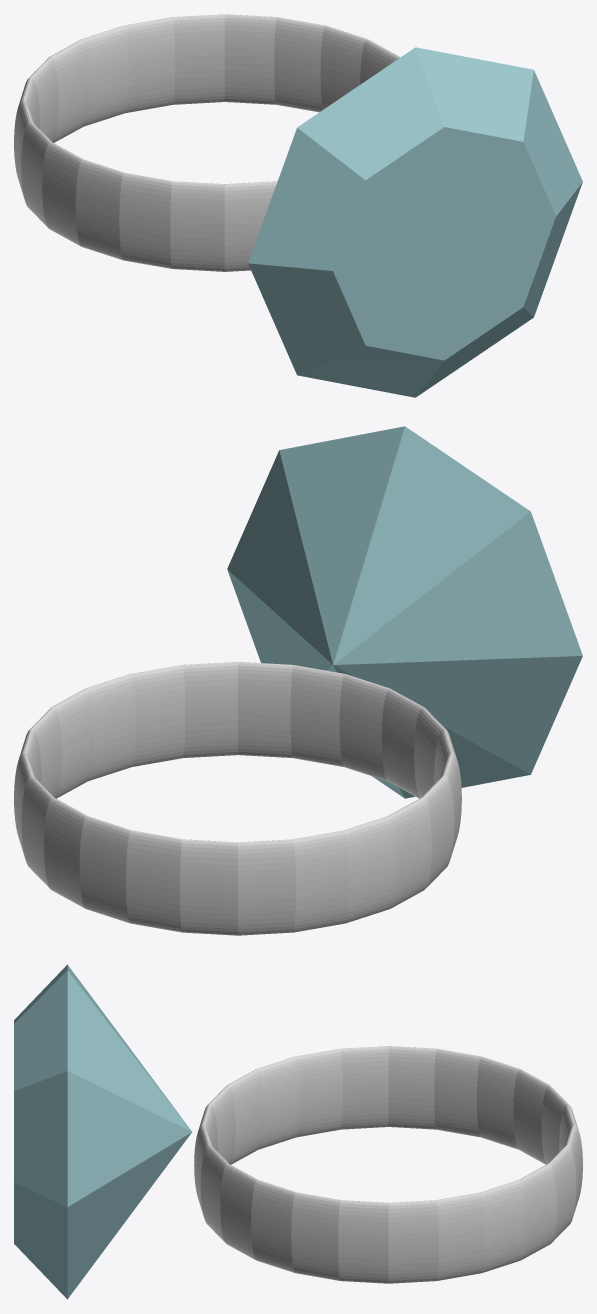
The model's file is ring.glb.
The picture shows the model from 3 angles, top to bottom: view 1: azimuth 30°, elevation 25°; view 2: azimuth 150°, elevation 25°; view 3: azimuth 270°, elevation 25°; orthographic projection. The views are drawn at different scales.
Parts seen in each view (by area): view 1: Mesh_Mesh_head_geo.001_lambert2SG.001; view 2: Mesh_Mesh_head_geo.001_lambert2SG.001; view 3: Mesh_Mesh_head_geo.001_lambert2SG.001.
Part boxes in pixels (x1=…): Mesh_Mesh_head_geo.001_lambert2SG.001: x1=14, y1=14, x2=582, y2=397; Mesh_Mesh_head_geo.001_lambert2SG.001: x1=14, y1=426, x2=582, y2=935; Mesh_Mesh_head_geo.001_lambert2SG.001: x1=14, y1=964, x2=582, y2=1299.
Bounding box in the file's own units: 21.9 × 20 × 31.9.
